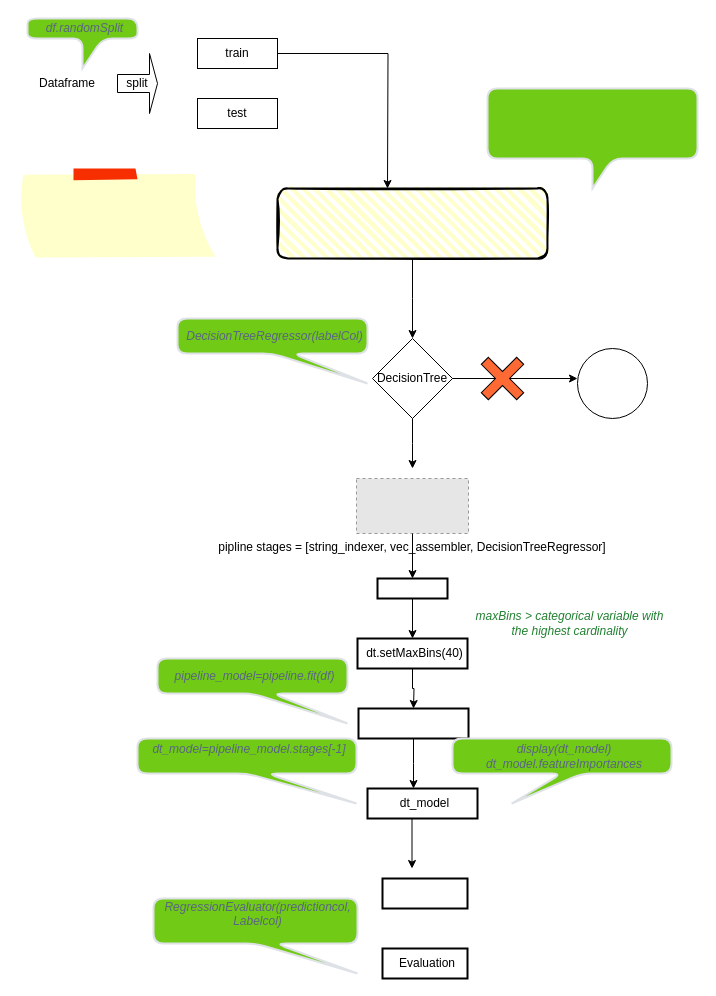
This 716x996 diagram has some shape labels left out. Grey dashed boxes stand in for pictures. The centre of each missing label's shape, as x and y in pixels:
maxBins: point 412,588
Note Line 1 Note Line 2 Note Line 3: point 117,213
OHE: point 612,383
pipeline Model: point 413,723
Prediction Dataframe: point 424,893
StringIndexer(inputCols, outputCols) VerctorAssembler(inputCols,outputCol): point 592,138
StringIndexer/OneHotEncoder/VectorAssembler or RFormula.: point 412,223
